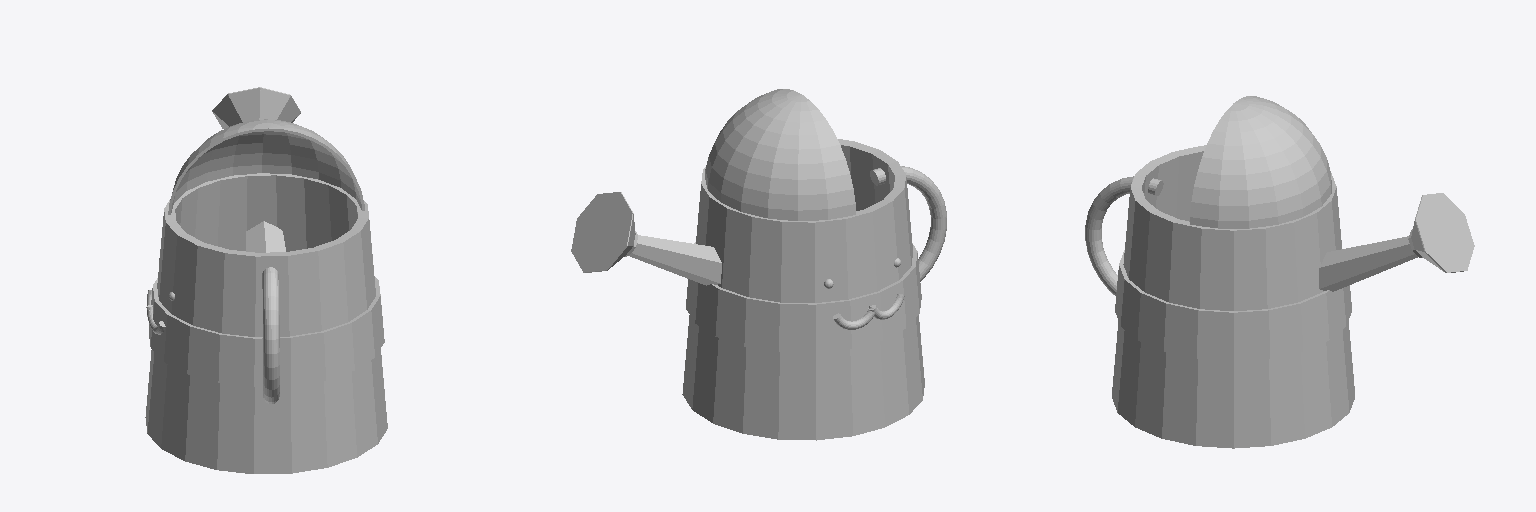
The model's file is watering can.obj.
3 views of the same model, side by side, from view 1: azimuth 30°, elevation 25°; view 2: azimuth 150°, elevation 25°; view 3: azimuth 270°, elevation 25° (orthographic).
Visible parts, largest first — view 1: pCylinder1, pSphere1, polySurface1 pCylinder3, pCylinder4, pCylinder2; view 2: pCylinder1, pSphere1, pCylinder3 polySurface2, pCylinder2, pCylinder4; view 3: pCylinder1, pSphere1, pCylinder3 polySurface2, pCylinder2, pCylinder4.
Boxes of the visible parts, <box> form: pCylinder1: <box>145,173,387,473</box>; pSphere1: <box>168,119,364,214</box>; polySurface1 pCylinder3: <box>212,87,300,128</box>; pCylinder4: <box>262,267,279,403</box>; pCylinder2: <box>246,221,285,252</box>; pCylinder1: <box>682,139,924,440</box>; pSphere1: <box>705,89,855,220</box>; pCylinder3 polySurface2: <box>571,192,632,272</box>; pCylinder2: <box>629,235,721,285</box>; pCylinder4: <box>870,166,946,281</box>; pCylinder1: <box>1112,145,1354,448</box>; pSphere1: <box>1190,96,1331,228</box>; pCylinder3 polySurface2: <box>1416,193,1474,272</box>; pCylinder2: <box>1319,236,1417,291</box>; pCylinder4: <box>1085,176,1163,295</box>.
Bounding box in the file's own units: 2.4 × 2.85 × 3.42.